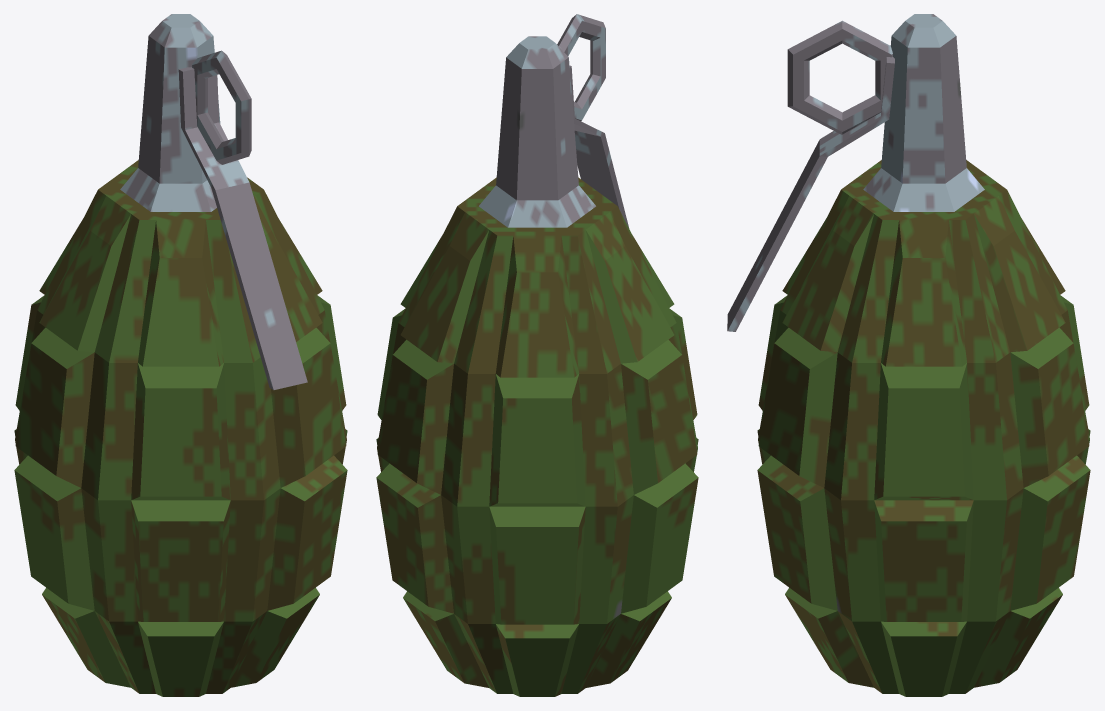
The model's file is Granade.fbx.
3 renders of one model, left to right at view 1: azimuth 30°, elevation 25°; view 2: azimuth 150°, elevation 25°; view 3: azimuth 270°, elevation 25°, orthographic. The views are drawn at different scales.
Parts seen in each view (by area): view 1: Sphere; view 2: Sphere; view 3: Sphere.
Part boxes in pixels (x1=…): Sphere: x1=14, y1=14, x2=347, y2=696; Sphere: x1=376, y1=14, x2=698, y2=696; Sphere: x1=727, y1=14, x2=1090, y2=696.
Bounding box in the file's own units: 48.78 × 104 × 52.85.
2 materials, 2 textured.
